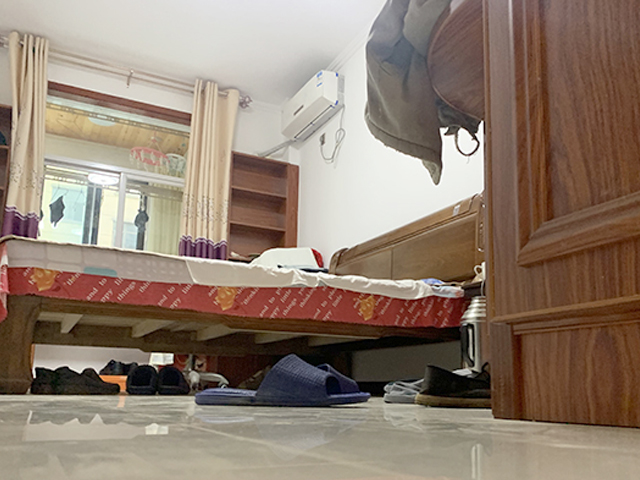bed: (1, 192, 486, 394)
curtain: (180, 77, 241, 259), (4, 29, 50, 239)
slippers: (194, 352, 372, 408), (156, 363, 192, 396), (121, 362, 157, 395)
